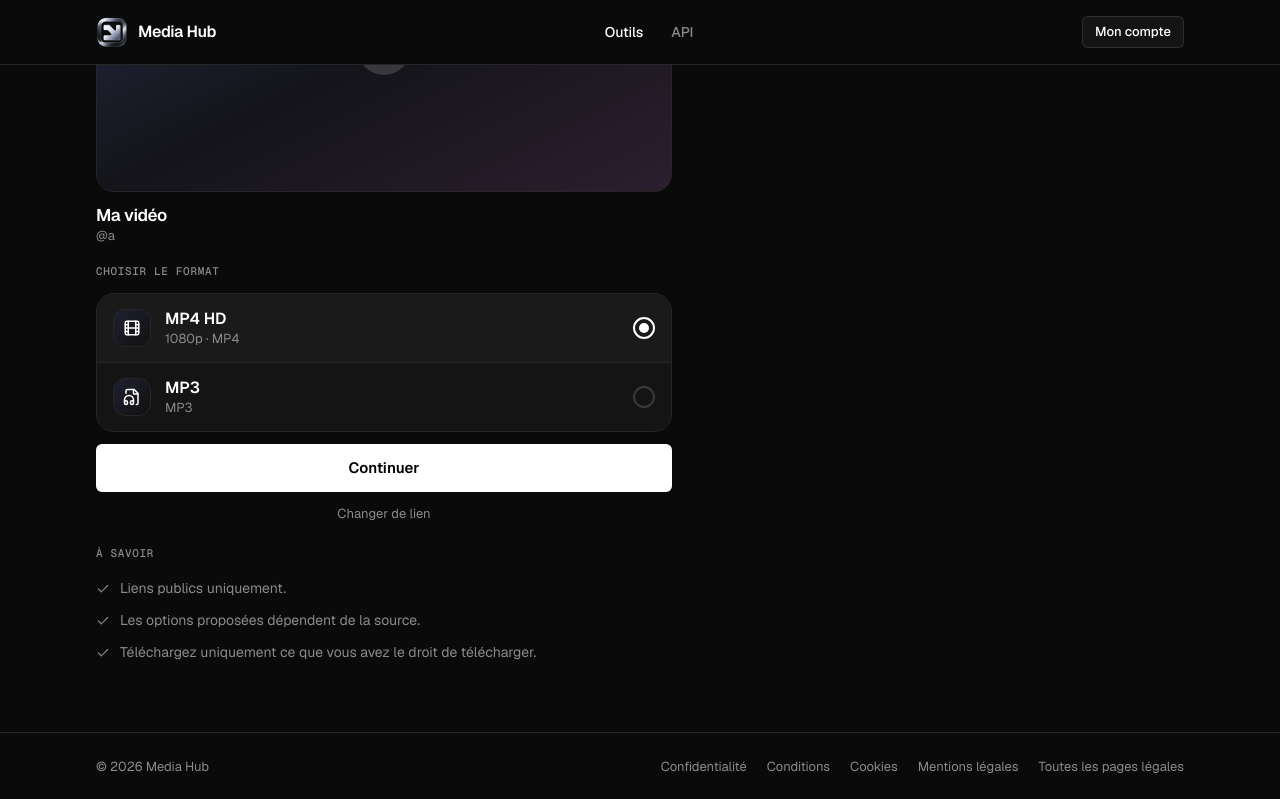
Test: page d’un outil › réessaie quand le serveur répond AD_NOT_FINISHED
(page scrolled)
Click the button "Continuer": (384, 468) [96,444,672,492]
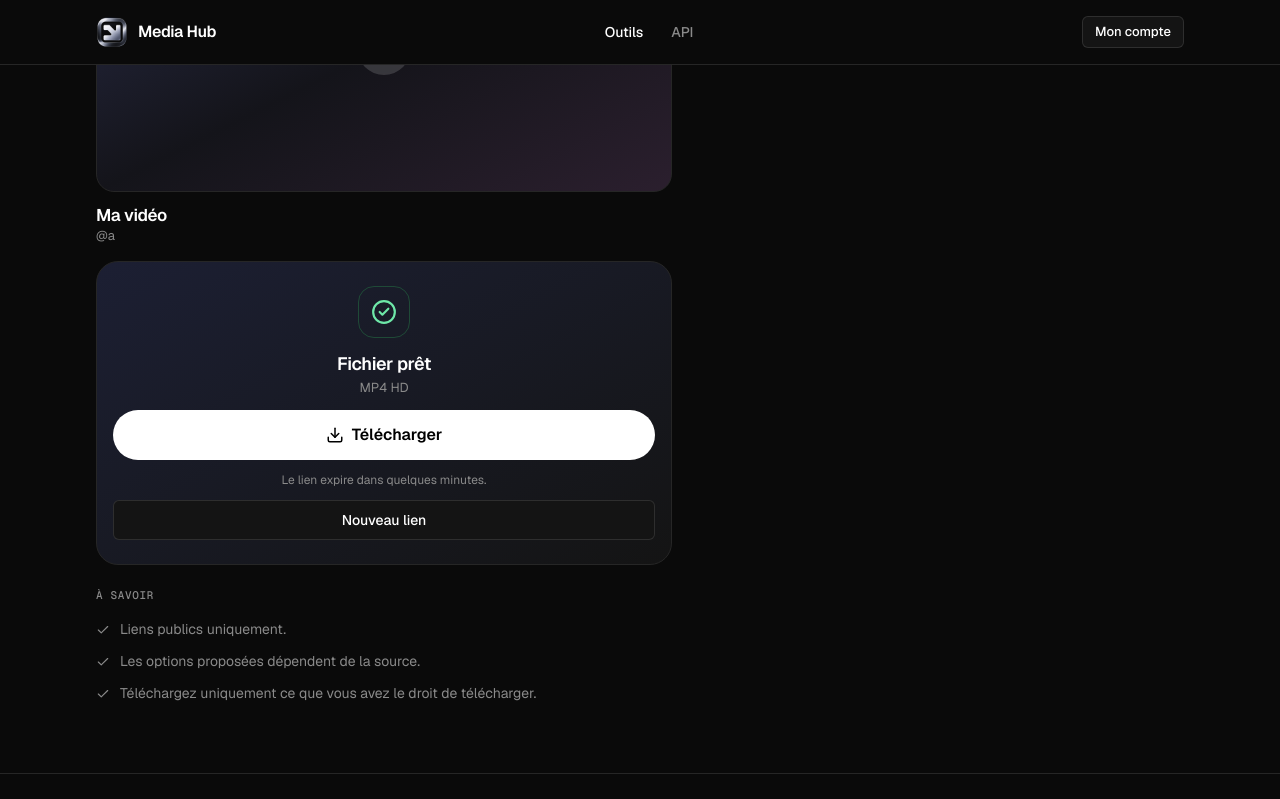
expect the link "Télécharger" is shown: met, box [113,410,655,460]
